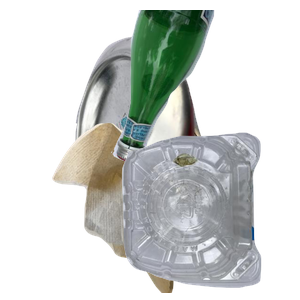glass: (109, 10, 300, 167)
metal: (73, 34, 285, 214)
plastic: (119, 130, 300, 300)
trash: (50, 120, 219, 300)
